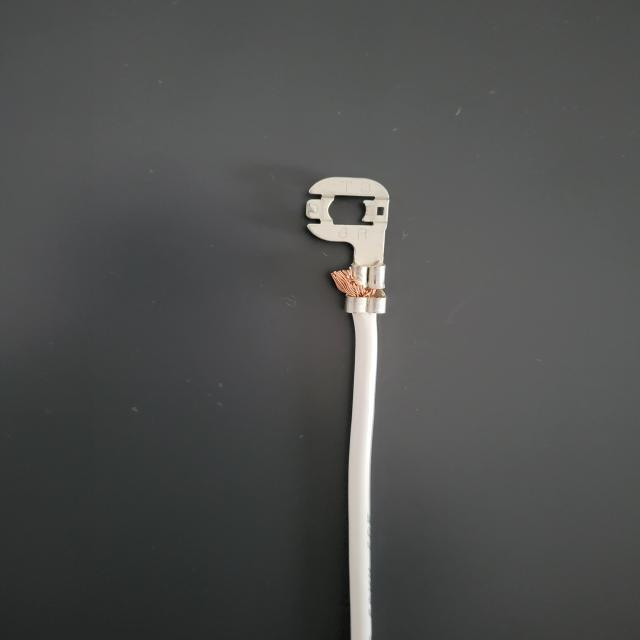defect: (275, 236, 441, 369)
